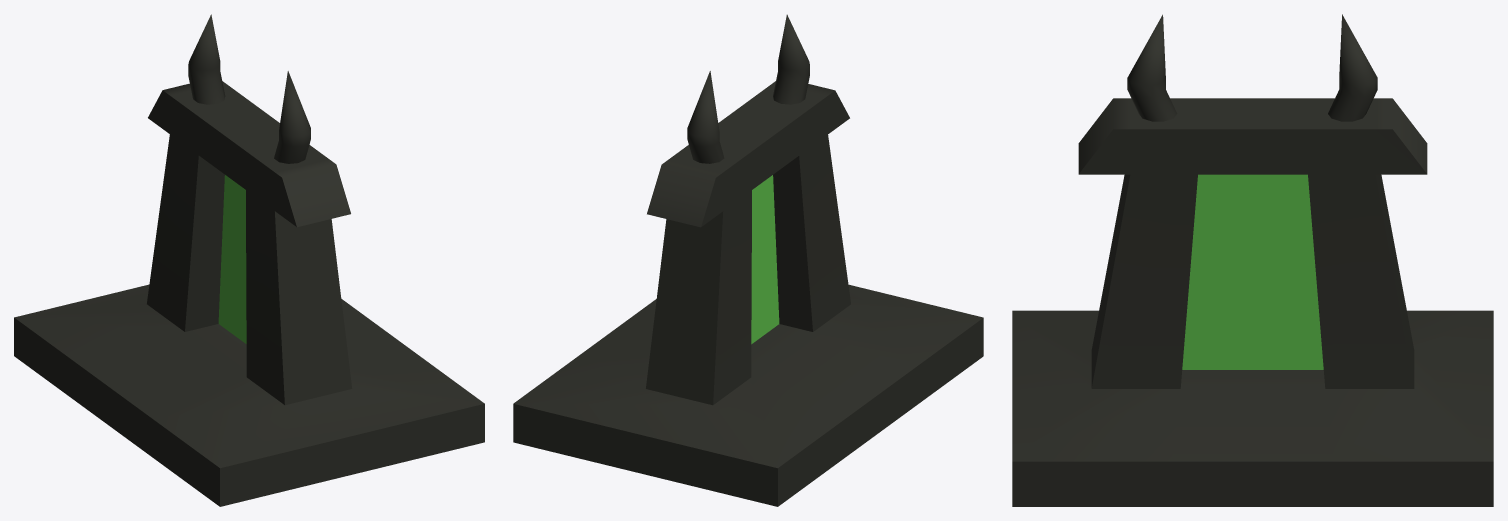
The model's file is portal.fbx.
The picture shows the model from 3 angles, left to right: view 1: azimuth 30°, elevation 25°; view 2: azimuth 150°, elevation 25°; view 3: azimuth 270°, elevation 25°; orthographic projection. The views are drawn at different scales.
Visible parts, largest first — view 1: Cube.001, Plane; view 2: Cube.001, Plane; view 3: Cube.001, Plane.
Part boxes in pixels (box(x1,y1,x2,y2)): Cube.001: box(14, 14, 484, 506); Plane: box(218, 175, 246, 343); Cube.001: box(513, 14, 983, 506); Plane: box(751, 175, 779, 344); Cube.001: box(1012, 14, 1493, 506); Plane: box(1182, 174, 1323, 369).
Size of the model in its own units: 437 by 564 by 589.
